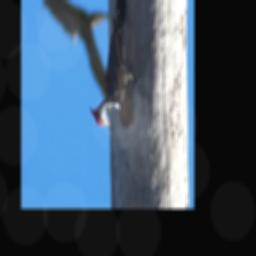Woodpecker: (89, 0, 142, 132)
